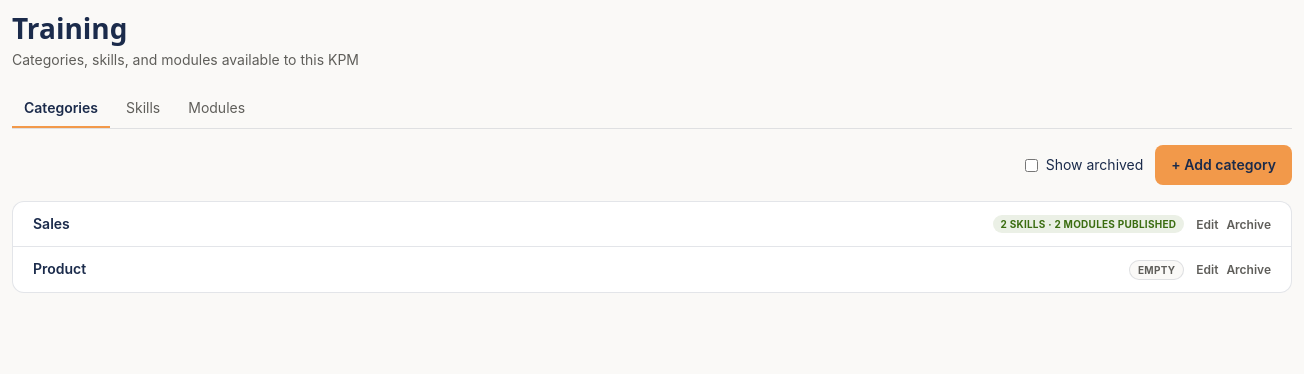
Settings › Training (P5-T1) › categories › keeps an archived category off the list until Show archived is on
Expected: the text "Sales" is shown, [33, 215, 70, 232]
Expected: the text "Old ways" is not shown
Click the checkbox labelled "Show archived": {"x": 1031, "y": 165} [1025, 159, 1038, 172]
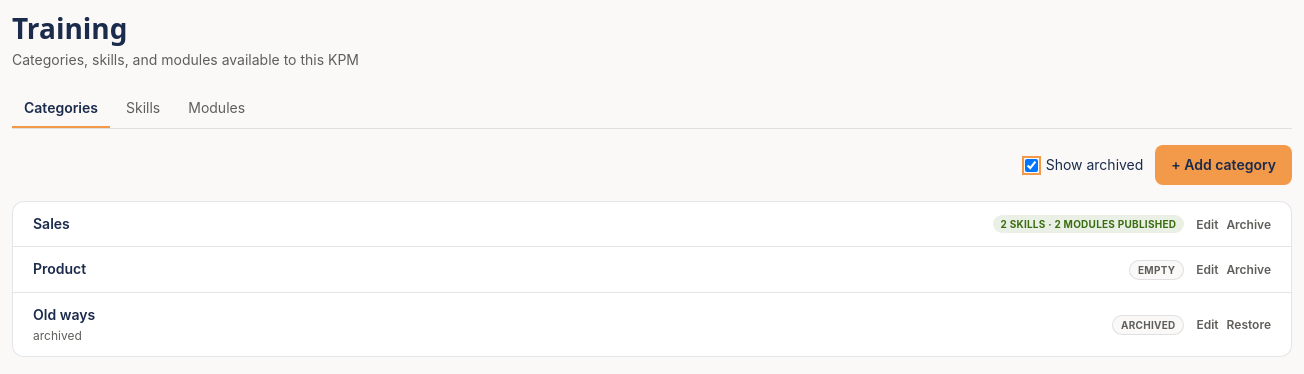
Expected: the text "archived" is shown, [33, 328, 82, 343]
Expected: the button "Restore" is shown, [1227, 316, 1271, 333]
